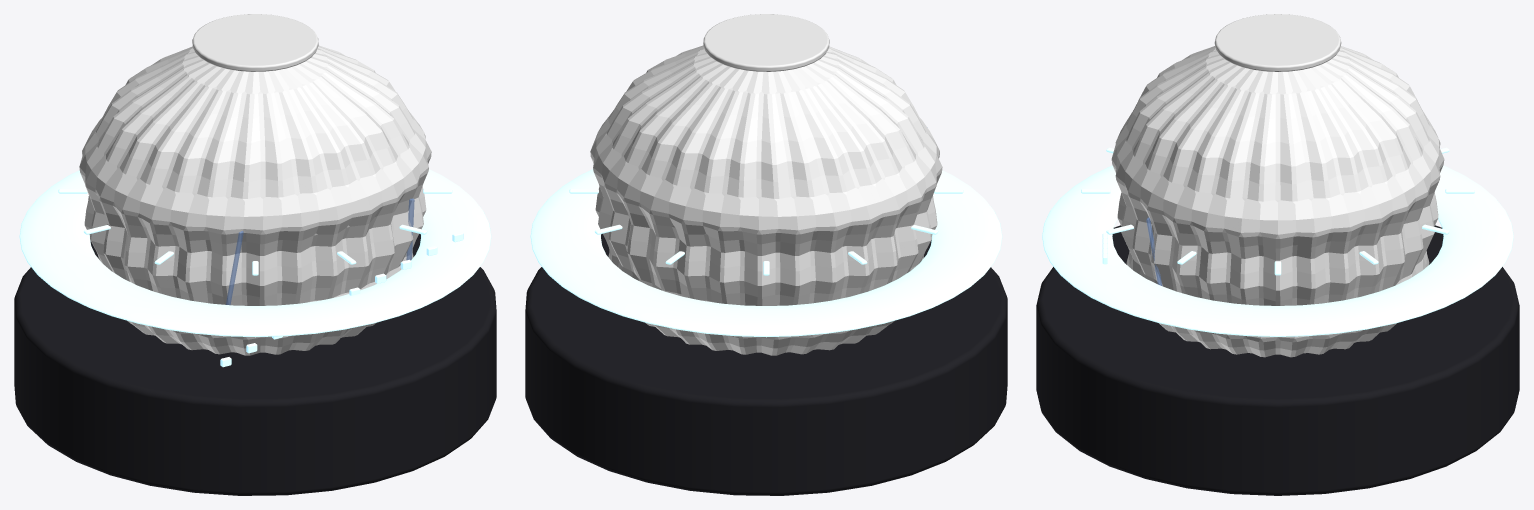
The picture shows the model from 3 angles, left to right: view 1: azimuth 30°, elevation 25°; view 2: azimuth 150°, elevation 25°; view 3: azimuth 270°, elevation 25°; orthographic projection.
Visible parts, largest first — view 1: hero_faceted_luxury_body, low_black_plinth, hero_blue_accent_ring, faceted_top_highlight_cap; view 2: hero_faceted_luxury_body, low_black_plinth, hero_blue_accent_ring, faceted_top_highlight_cap; view 3: low_black_plinth, hero_faceted_luxury_body, hero_blue_accent_ring, faceted_top_highlight_cap.
Part boxes in pixels (x1=…): hero_faceted_luxury_body: x1=79, y1=45, x2=431, y2=355; low_black_plinth: x1=14, y1=234, x2=496, y2=495; hero_blue_accent_ring: x1=19, y1=169, x2=491, y2=337; faceted_top_highlight_cap: x1=192, y1=14, x2=318, y2=71; hero_faceted_luxury_body: x1=590, y1=45, x2=942, y2=355; low_black_plinth: x1=525, y1=234, x2=1007, y2=495; hero_blue_accent_ring: x1=530, y1=169, x2=1002, y2=337; faceted_top_highlight_cap: x1=703, y1=14, x2=829, y2=71; low_black_plinth: x1=1036, y1=225, x2=1519, y2=495; hero_faceted_luxury_body: x1=1111, y1=46, x2=1444, y2=357; hero_blue_accent_ring: x1=1042, y1=165, x2=1513, y2=336; faceted_top_highlight_cap: x1=1214, y1=14, x2=1341, y2=71.
Size of what is drawn, in the model's own units: 2.6 by 2.11 by 2.6.
